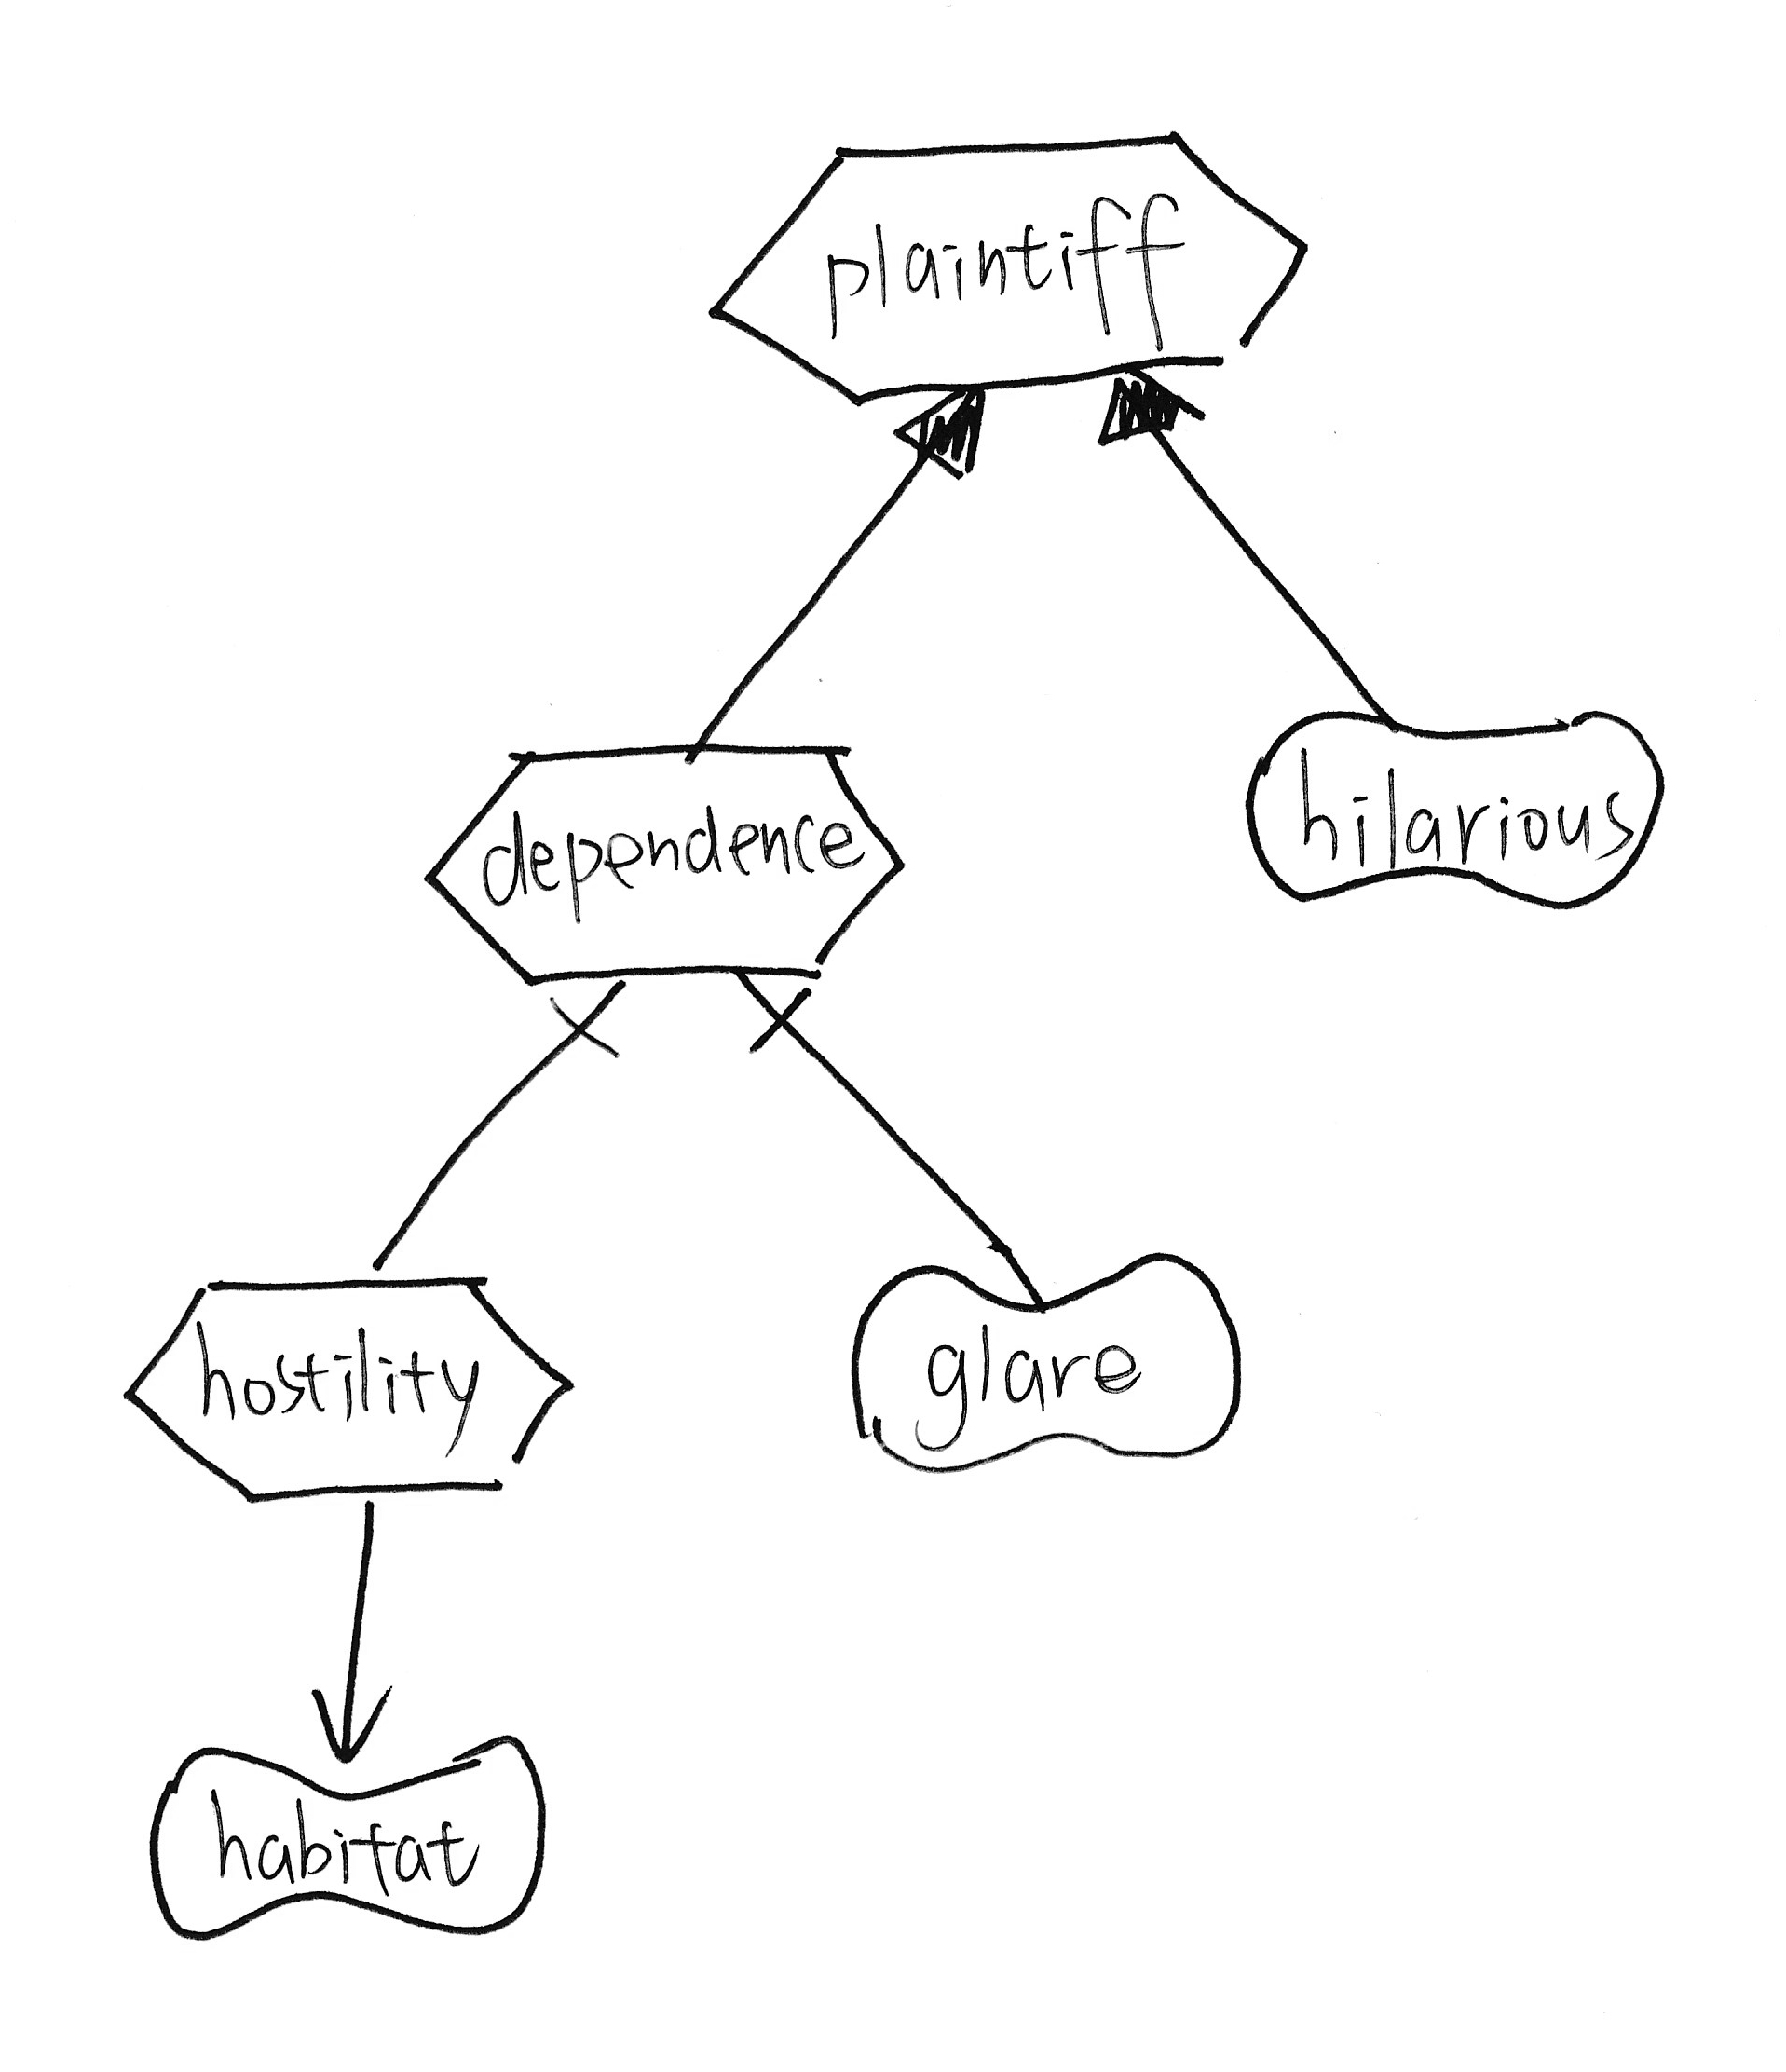and: (534, 976, 645, 1080), (722, 978, 837, 1066)
arrow: (285, 1670, 403, 1774)
or: (1087, 359, 1224, 460), (882, 381, 1002, 488)
quality: (1242, 682, 1687, 927), (831, 1235, 1263, 1487), (136, 1723, 558, 1950)
task: (694, 93, 1335, 402), (403, 722, 934, 999), (106, 1251, 592, 1515)
